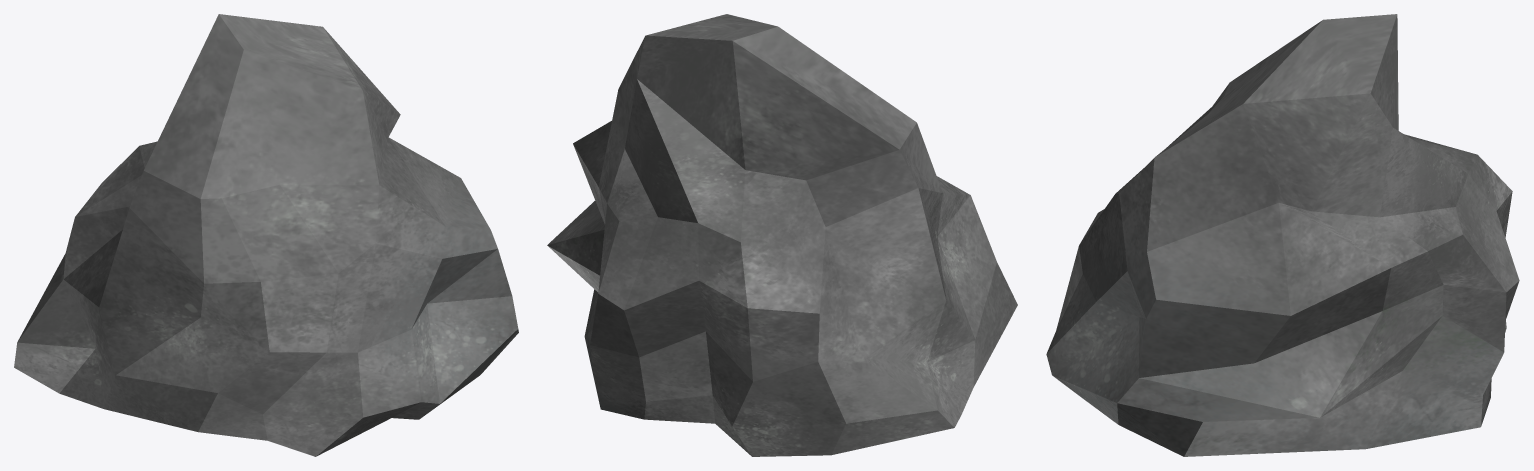
Rendered from Stein4.fbx.
The picture shows the model from 3 angles, left to right: view 1: azimuth 30°, elevation 25°; view 2: azimuth 150°, elevation 25°; view 3: azimuth 270°, elevation 25°; orthographic projection. The views are drawn at different scales.
Parts seen in each view (by area): view 1: Cube.002; view 2: Cube.002; view 3: Cube.002.
Boxes of the visible parts, box(x1,y1,x2,y2) form: Cube.002: box(14, 14, 518, 456); Cube.002: box(547, 14, 1017, 456); Cube.002: box(1046, 14, 1519, 456).
Bounding box in the file's own units: 443 × 344 × 399.
